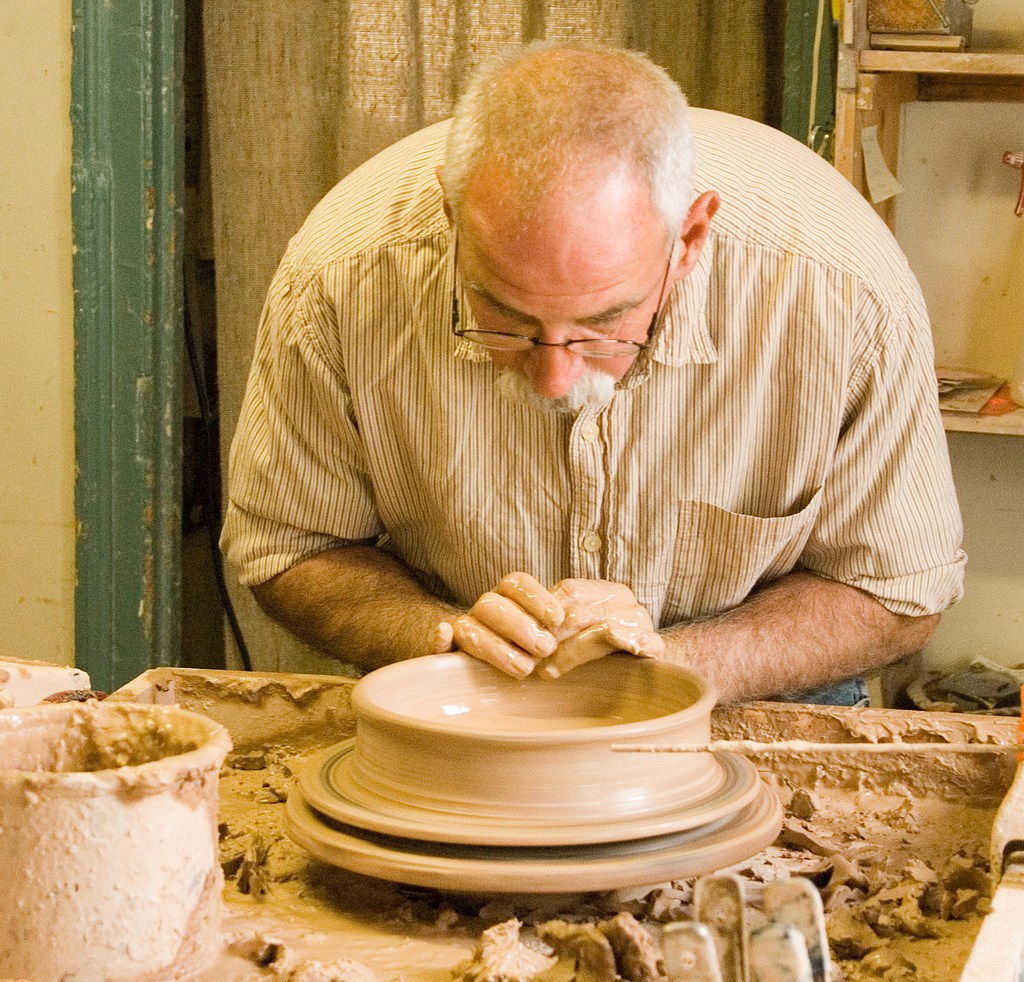Human_hand: (432, 570, 565, 681), (544, 577, 665, 682)
